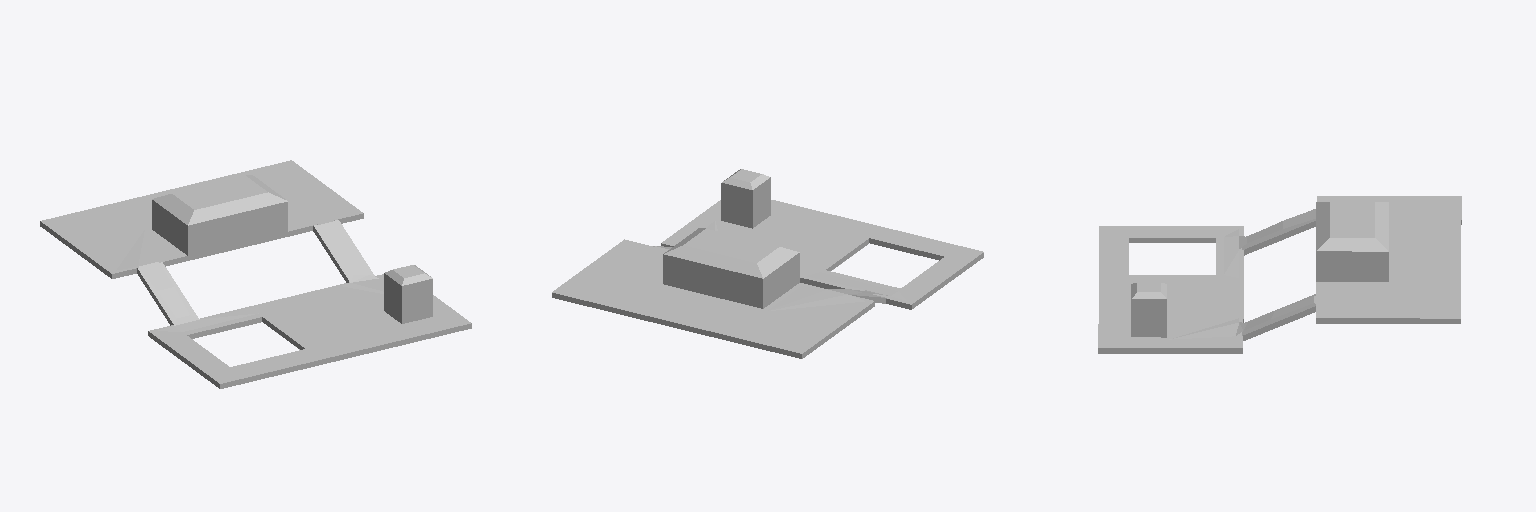
The model's file is MAP-06.obj.
3 renders of one model, left to right at view 1: azimuth 30°, elevation 25°; view 2: azimuth 150°, elevation 25°; view 3: azimuth 270°, elevation 25°, orthographic.
Visible parts, largest first — view 1: Navmesh, HighPlane, LowPlane, BevelCube, RBridge, LBrigde; view 2: Navmesh, HighPlane, LowPlane, BevelCube; view 3: Navmesh, HighPlane, LowPlane, BevelCube, RBridge, LBrigde.
Part boxes in pixels (x1,y1,x2,y2): Navmesh: (50, 164, 460, 378); HighPlane: (40, 160, 363, 278); LowPlane: (148, 274, 471, 388); BevelCube: (384, 265, 432, 323); RBridge: (313, 220, 374, 282); LBrigde: (137, 262, 197, 325); Navmesh: (563, 203, 973, 349); HighPlane: (552, 228, 874, 358); LowPlane: (661, 200, 983, 309); BevelCube: (721, 169, 770, 228); Navmesh: (1106, 199, 1454, 344); HighPlane: (1316, 196, 1461, 323); LowPlane: (1098, 226, 1243, 353); BevelCube: (1131, 282, 1166, 337); RBridge: (1242, 294, 1315, 340); LBrigde: (1242, 209, 1315, 255).
Bounding box in the file's own units: 18.56 × 5.14 × 23.17.